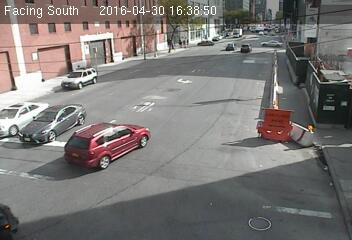neg: (30, 113, 65, 159), (10, 172, 42, 215), (114, 108, 142, 146), (228, 142, 255, 179), (315, 49, 340, 82), (169, 95, 193, 127), (285, 168, 307, 198), (168, 171, 190, 200), (276, 118, 295, 144), (191, 41, 210, 66), (262, 47, 279, 69), (132, 35, 148, 56), (42, 26, 57, 46), (62, 73, 73, 87)
